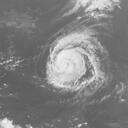cyclone: (45, 32, 108, 96)
